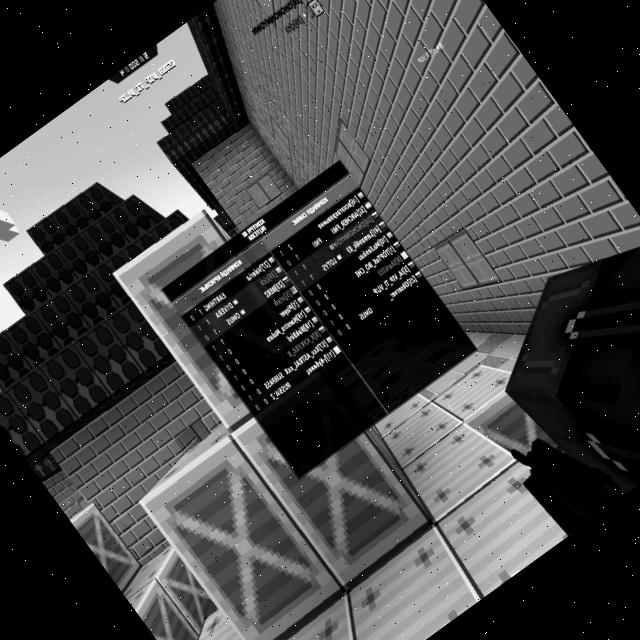Head: (461, 207, 640, 516)
